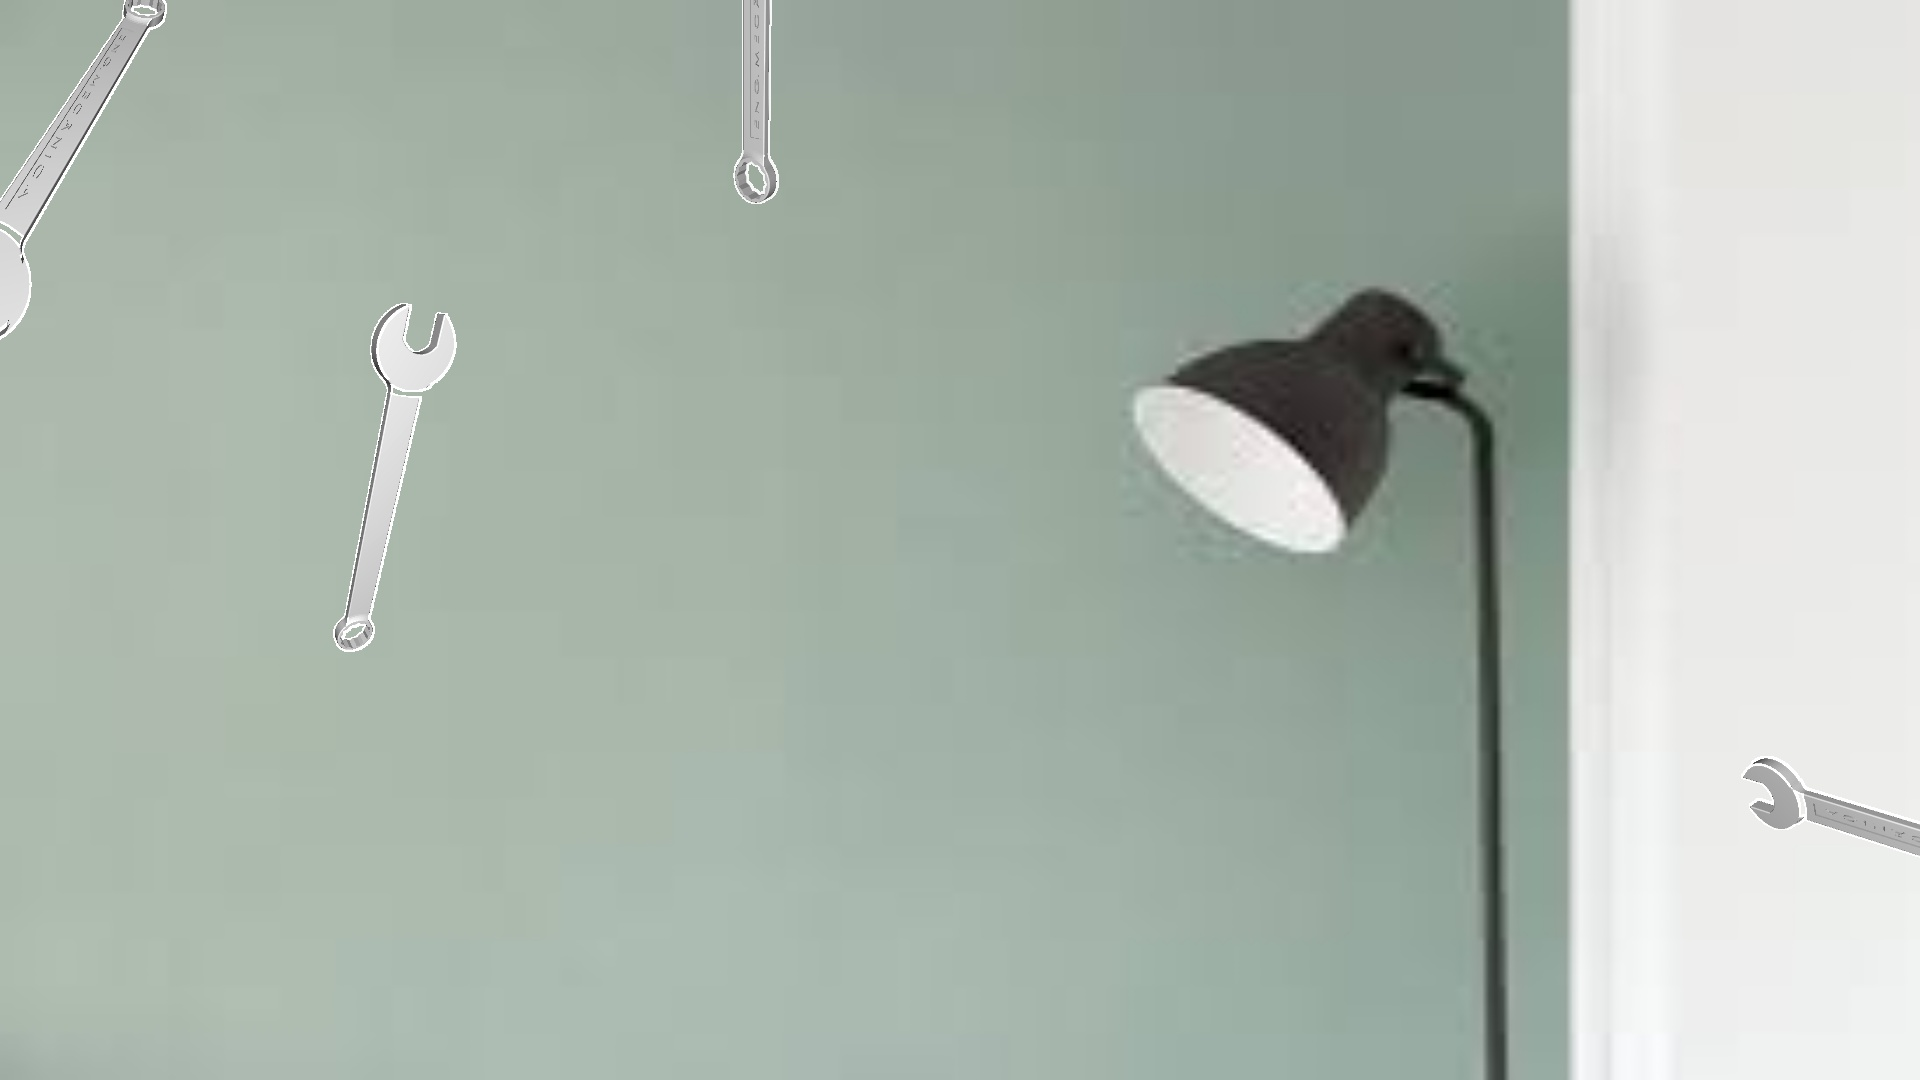Mixed Key: (0, 0, 166, 339), (334, 303, 456, 651), (1741, 756, 1919, 857), (733, 0, 778, 203)
